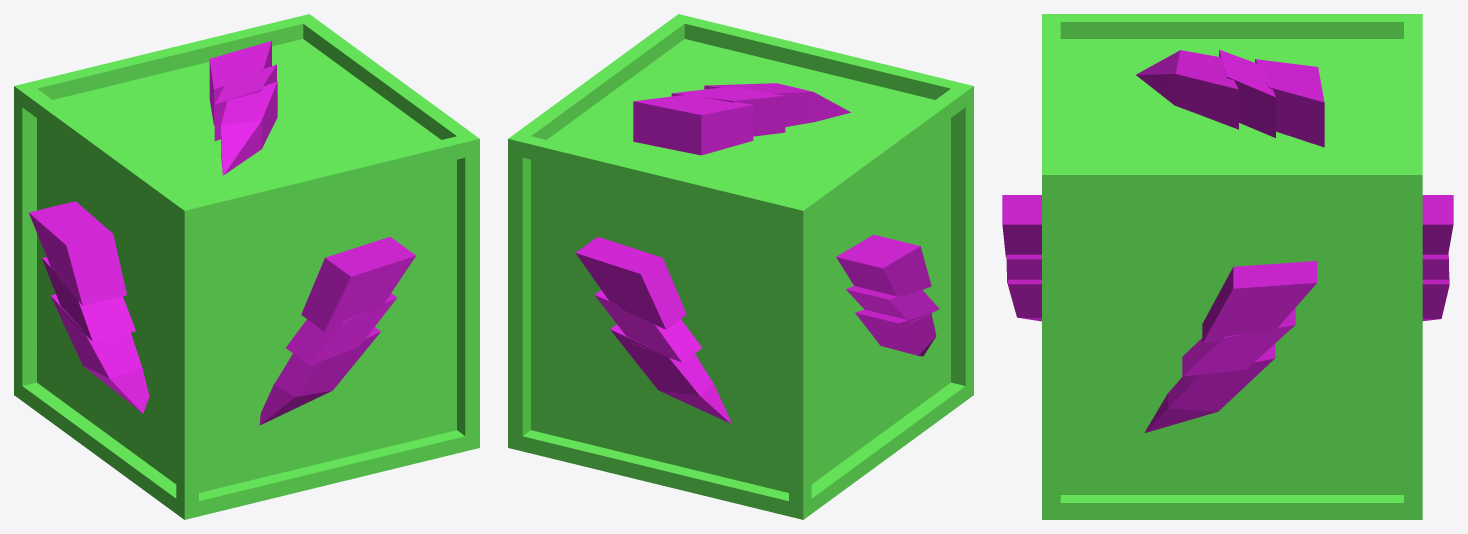
File: speedPowerup.fbx
3 views of the same model, side by side, from view 1: azimuth 30°, elevation 25°; view 2: azimuth 150°, elevation 25°; view 3: azimuth 270°, elevation 25° (orthographic). The views are drawn at different scales.
Visible parts, largest first — view 1: Cube, Cube.002; view 2: Cube, Cube.002; view 3: Cube, Cube.002.
Boxes of the visible parts, bbox=[...] form: Cube: bbox=[14, 14, 479, 519]; Cube.002: bbox=[29, 41, 415, 425]; Cube: bbox=[508, 14, 973, 519]; Cube.002: bbox=[576, 83, 939, 423]; Cube: bbox=[1042, 14, 1422, 519]; Cube.002: bbox=[1002, 49, 1453, 432].
Size of the model in its own units: 239 by 237 by 237.
